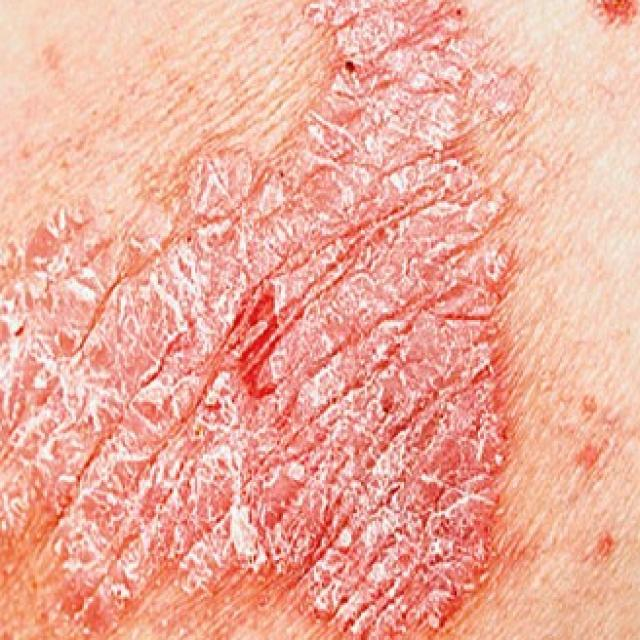Psoriasis: (265, 0, 529, 640), (0, 138, 265, 640), (575, 0, 640, 31)
